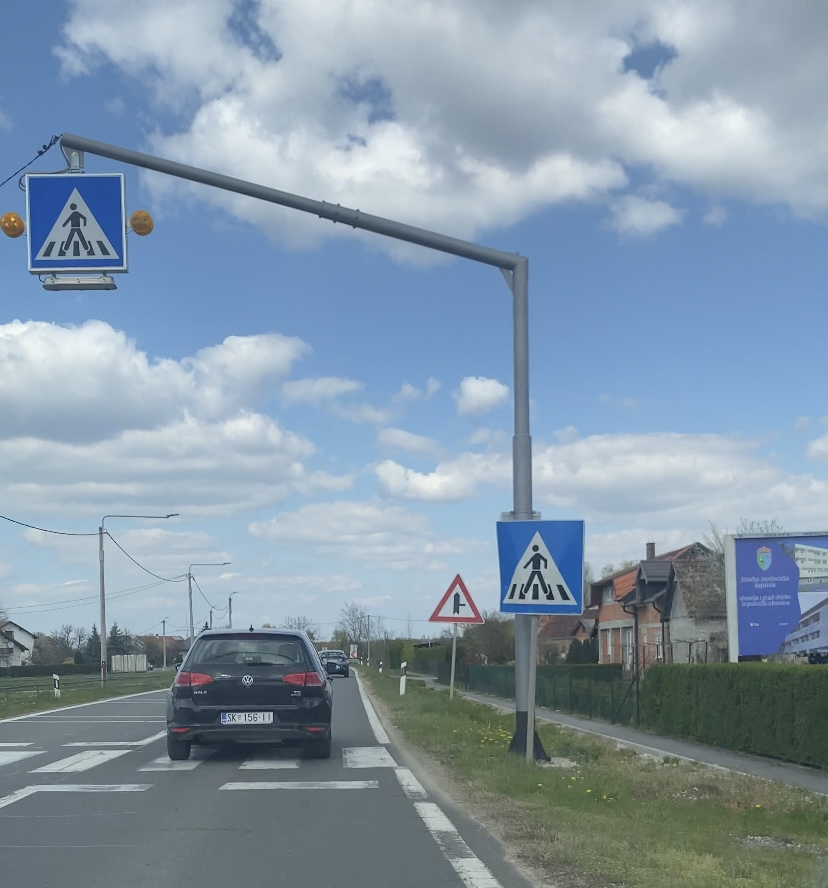Pješački prijelaz: (25, 174, 128, 270), (496, 520, 584, 612)
